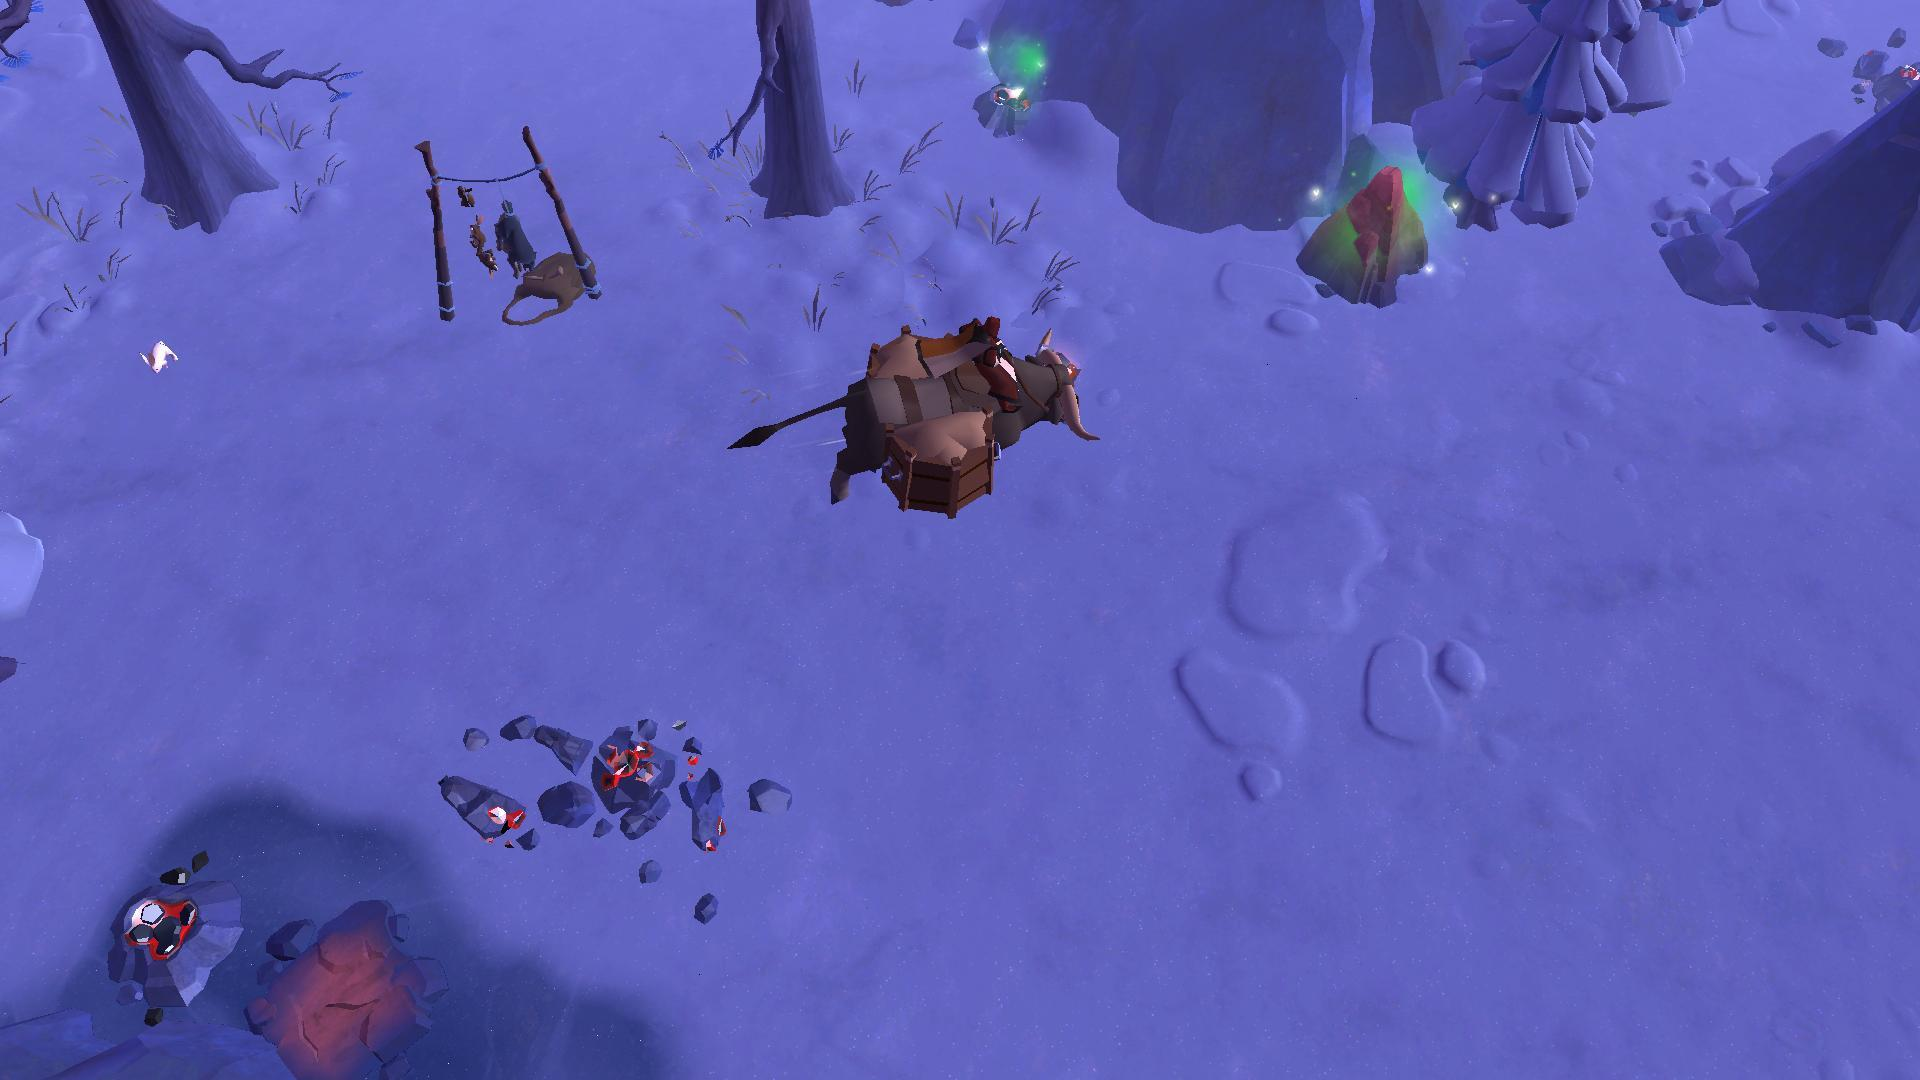rock_t5: (1300, 162, 1431, 306)
